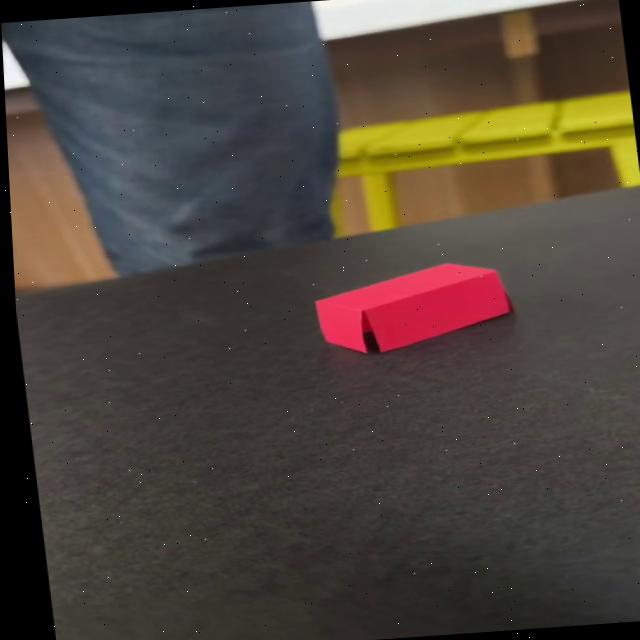red block: (306, 256, 516, 356)
